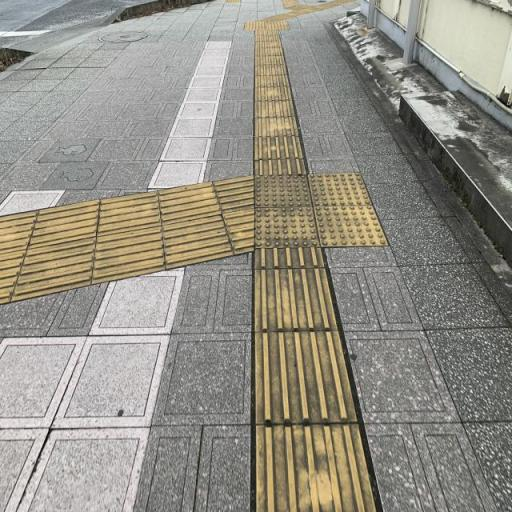dot: (314, 206, 391, 251), (256, 206, 320, 249), (308, 172, 371, 207), (256, 175, 313, 207)
line: (256, 423, 377, 511), (253, 331, 362, 423), (254, 267, 339, 331), (254, 248, 325, 269)
